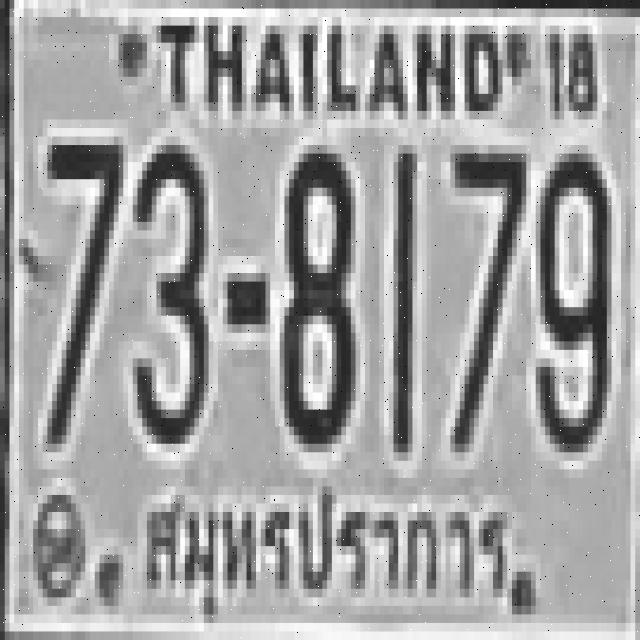1: (388, 145, 412, 452)
3: (133, 146, 209, 444)
7: (450, 145, 526, 453), (44, 136, 120, 442)
8: (280, 148, 356, 452)
9: (534, 144, 614, 460)
SamutPrakan: (128, 477, 514, 622)
